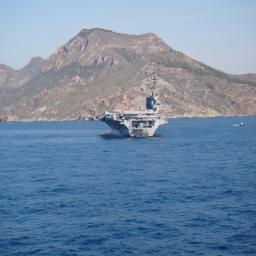Portanaves: (100, 63, 168, 141)
